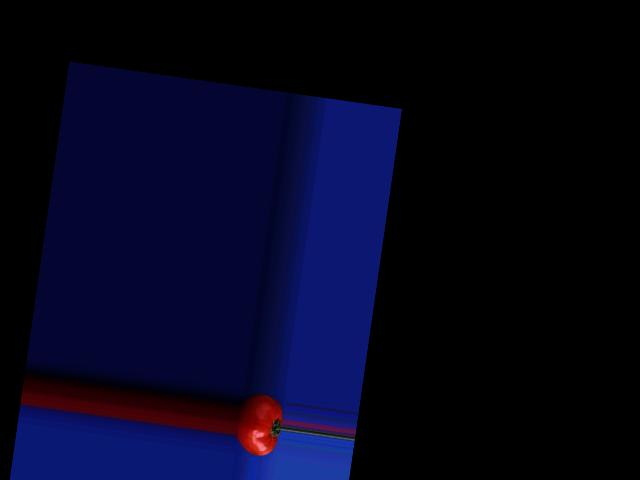tomato: (232, 390, 286, 457)
